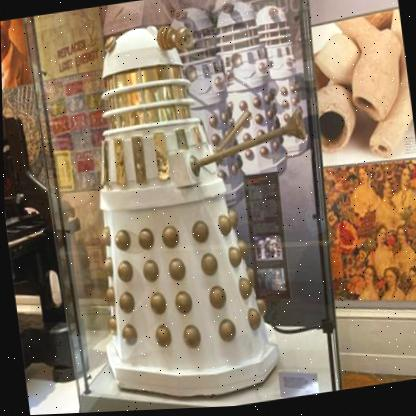dalek: (55, 0, 340, 414)
